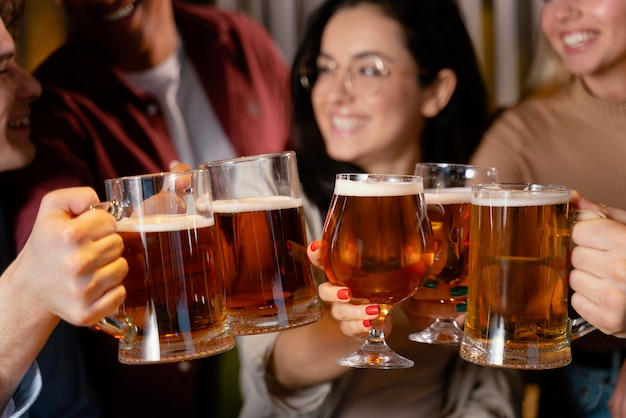alcohol: (79, 169, 238, 366), (457, 180, 614, 367), (194, 152, 324, 336), (321, 173, 434, 371), (406, 161, 499, 349)
